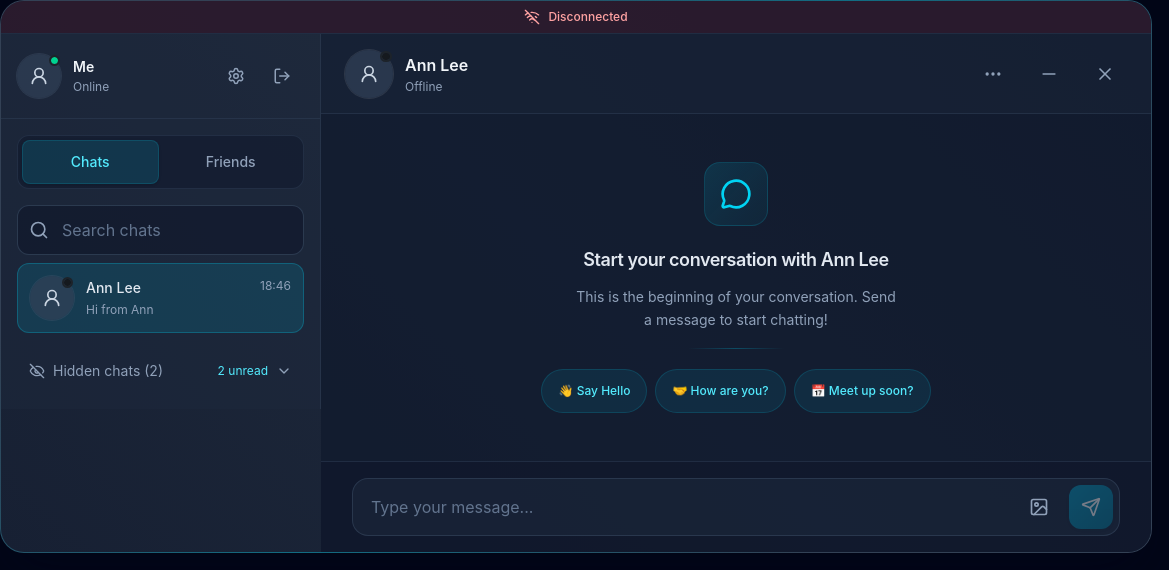
Test: minimized and hidden chats › minimizes a conversation with its unsent text and brings both back
In the field labelled "message": point(684, 506) [359,484,1009,528], type "Half-written"
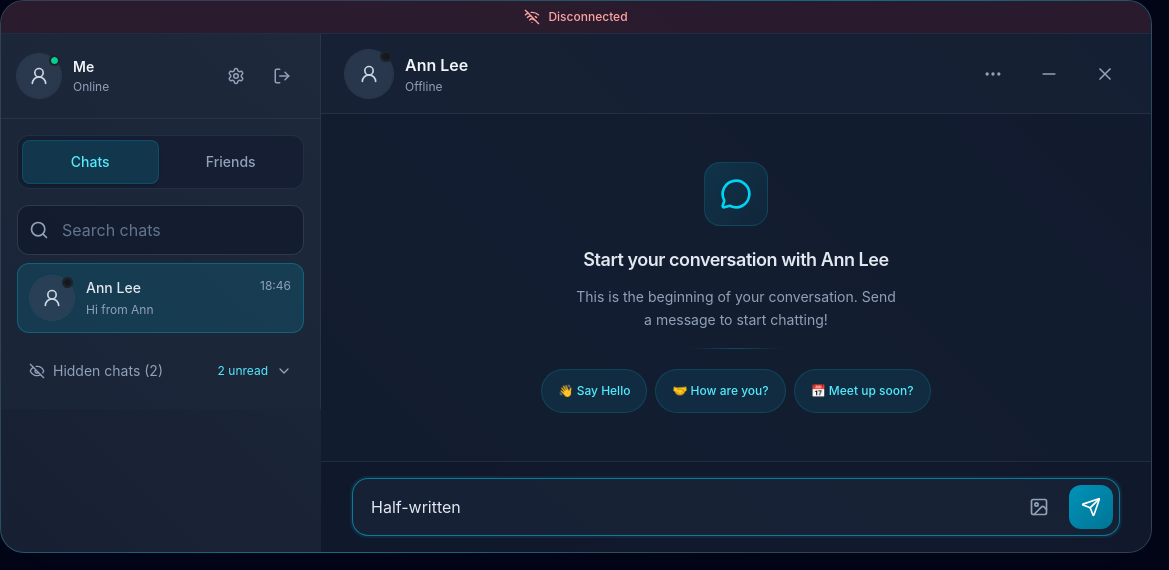
Click the button named "Minimize conversation": point(1049, 74) [1027,52,1071,96]
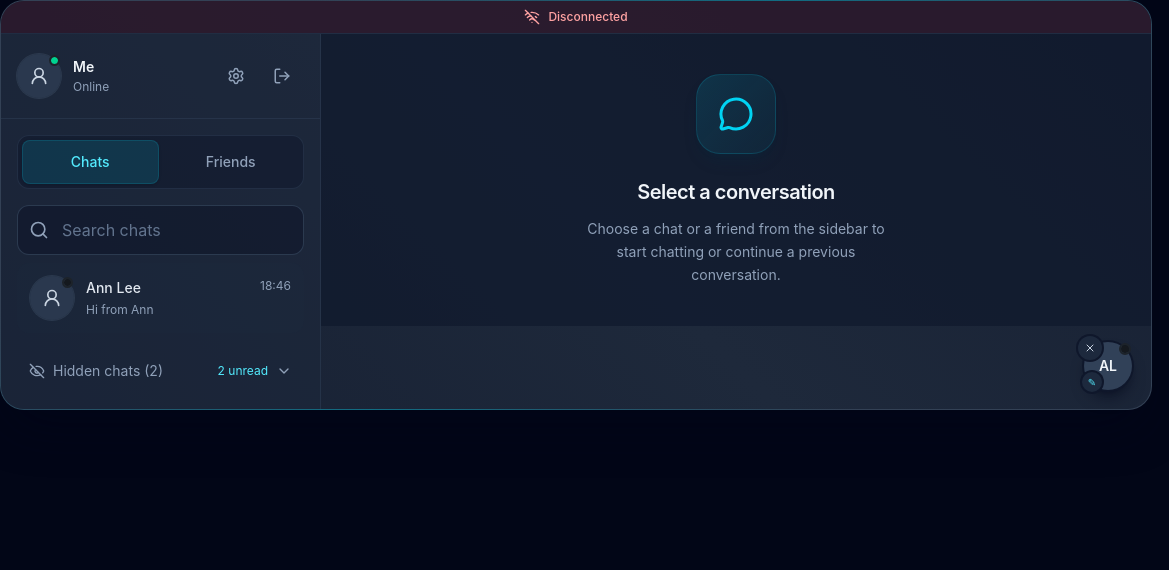
Click the button with aria-label "Open chat with Ann Lee (draft)": point(1108, 366) [1084,342,1132,390]
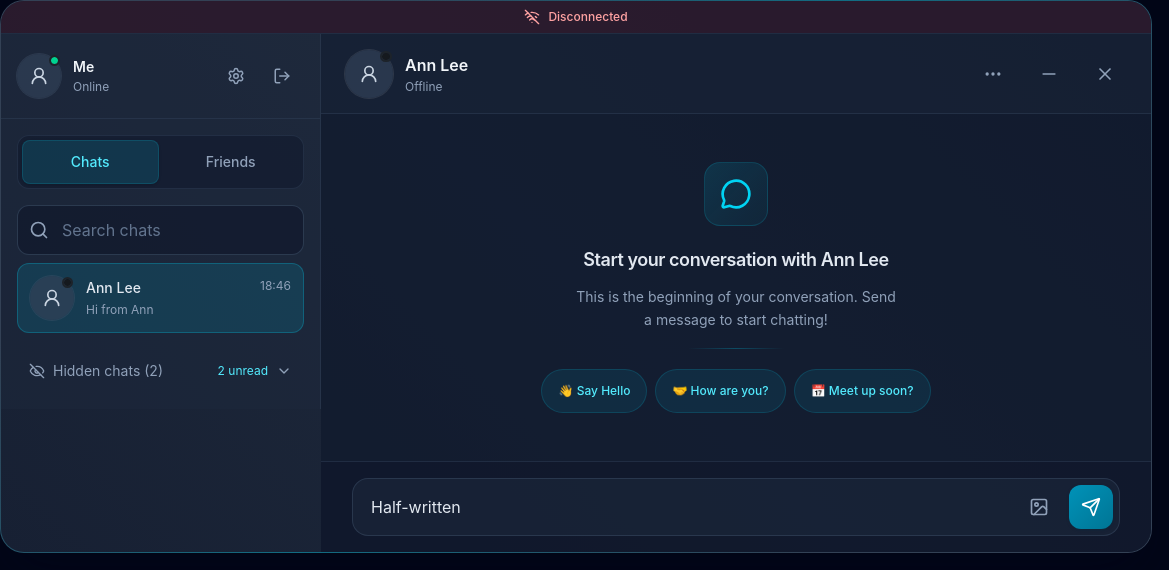
Expected: the field named "message" holds "Half-written", [359,484,1009,528]
